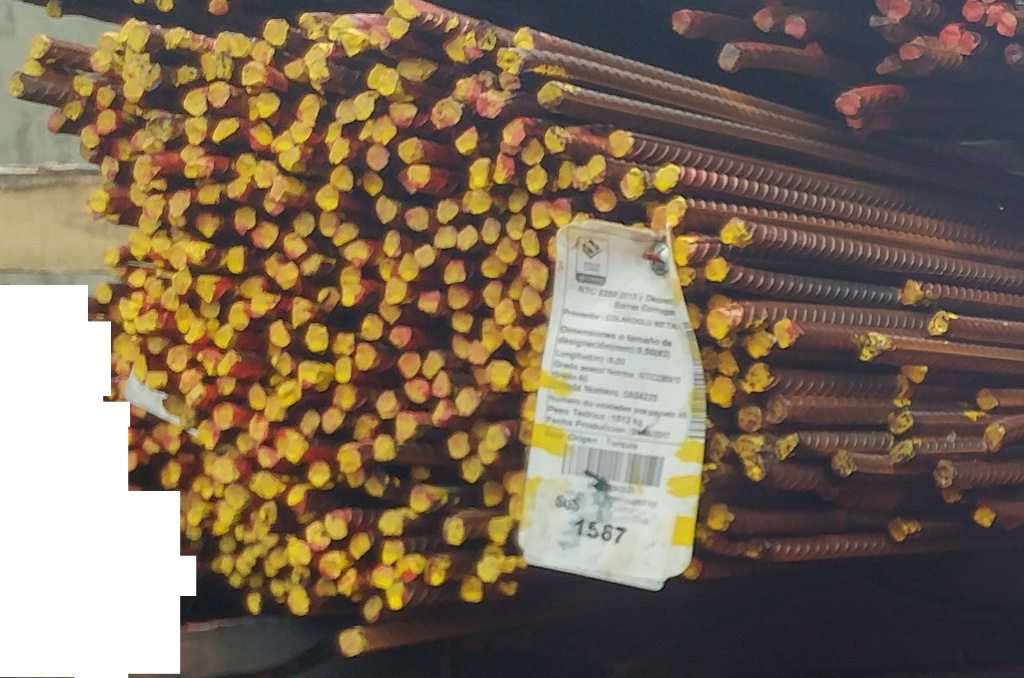dipstick: (519, 257, 549, 291), (368, 63, 400, 94), (494, 43, 527, 73), (708, 376, 737, 408), (222, 32, 252, 62), (431, 100, 462, 128), (340, 237, 371, 264), (303, 522, 331, 551), (834, 88, 863, 116), (132, 155, 162, 182), (469, 159, 496, 189), (619, 167, 645, 198), (430, 399, 458, 427), (251, 220, 278, 249), (338, 30, 368, 56), (933, 458, 958, 489), (493, 151, 516, 184), (720, 218, 748, 245), (671, 235, 696, 265), (774, 318, 799, 348), (454, 387, 481, 414), (420, 350, 446, 378), (296, 96, 322, 124), (372, 115, 397, 144), (705, 504, 732, 530), (737, 406, 764, 432), (655, 163, 679, 192), (339, 630, 365, 656), (196, 212, 223, 237), (455, 127, 480, 154), (708, 310, 733, 337), (748, 363, 773, 390), (716, 45, 741, 72), (306, 322, 330, 350), (356, 341, 380, 369), (521, 137, 545, 165), (537, 84, 566, 107), (234, 206, 256, 236), (521, 286, 543, 316), (983, 422, 1005, 452), (184, 117, 209, 143), (377, 391, 402, 417), (390, 102, 416, 127), (383, 276, 408, 302), (495, 237, 520, 263), (544, 125, 568, 152), (251, 94, 279, 117), (367, 143, 390, 171), (444, 518, 467, 546), (405, 376, 430, 401), (477, 92, 502, 117), (264, 19, 288, 45), (337, 447, 361, 473), (404, 207, 430, 231), (409, 485, 433, 511), (481, 255, 507, 279), (398, 137, 425, 160), (664, 198, 687, 225), (549, 198, 572, 225), (482, 280, 504, 308), (230, 302, 251, 331), (300, 409, 321, 438), (373, 436, 397, 461), (361, 312, 385, 337), (283, 233, 307, 258), (335, 99, 359, 124), (423, 560, 447, 585), (242, 62, 268, 85), (269, 320, 292, 346), (397, 352, 420, 378), (359, 172, 385, 195), (375, 196, 398, 222), (455, 226, 478, 252), (460, 457, 483, 483), (395, 413, 418, 439), (309, 460, 331, 487), (320, 210, 342, 237), (183, 90, 207, 114), (443, 259, 467, 283), (448, 285, 472, 309), (503, 325, 527, 349), (447, 432, 470, 457), (323, 515, 348, 538), (594, 186, 617, 211), (477, 557, 500, 582), (889, 412, 914, 435), (458, 578, 483, 601), (128, 26, 150, 52), (321, 406, 343, 432), (489, 517, 511, 543), (142, 64, 163, 91), (227, 245, 248, 272), (718, 348, 739, 375), (521, 228, 541, 256), (207, 82, 230, 106), (252, 40, 275, 64), (380, 512, 404, 535), (486, 425, 509, 449), (489, 361, 513, 384), (832, 452, 856, 475), (282, 435, 305, 459), (277, 262, 299, 287), (436, 199, 458, 224), (481, 480, 503, 505), (608, 131, 630, 156), (96, 109, 117, 135), (530, 202, 551, 228), (556, 162, 576, 189), (519, 364, 539, 391), (167, 348, 190, 371), (417, 289, 440, 312), (705, 258, 728, 281), (248, 418, 271, 441), (938, 24, 961, 47), (316, 185, 338, 209), (330, 167, 354, 189), (333, 385, 357, 407), (901, 280, 923, 304), (504, 120, 524, 146), (236, 153, 259, 175), (408, 165, 430, 188), (386, 17, 409, 39), (142, 197, 165, 219), (526, 166, 548, 189), (262, 193, 284, 216), (892, 442, 915, 464), (95, 86, 116, 110), (482, 217, 500, 245), (973, 389, 997, 410), (174, 64, 199, 84), (213, 404, 233, 429), (30, 35, 52, 57), (123, 80, 146, 101), (318, 557, 341, 578), (186, 383, 207, 406), (512, 27, 533, 50), (495, 299, 515, 323), (588, 154, 605, 182), (23, 59, 48, 78), (10, 72, 29, 97), (335, 358, 354, 383), (111, 139, 132, 161), (380, 541, 401, 563), (435, 226, 457, 247), (283, 58, 305, 79), (288, 543, 309, 565), (81, 124, 101, 147), (389, 326, 412, 346), (999, 13, 1018, 37), (101, 155, 119, 180), (930, 314, 951, 335), (173, 271, 192, 294), (198, 185, 222, 203), (119, 297, 140, 317), (975, 507, 996, 527), (962, 2, 983, 22), (61, 101, 83, 120), (287, 597, 309, 616), (673, 10, 692, 32), (414, 245, 434, 265), (452, 312, 472, 332), (89, 190, 108, 211), (93, 283, 112, 304), (888, 521, 909, 540), (162, 287, 180, 309), (73, 76, 93, 95), (787, 17, 806, 37), (146, 370, 167, 388), (131, 231, 149, 251), (185, 160, 205, 178), (48, 111, 65, 132), (91, 51, 110, 69), (201, 299, 220, 317), (128, 267, 145, 286), (98, 33, 115, 51), (101, 248, 119, 265), (46, 1, 62, 18)
